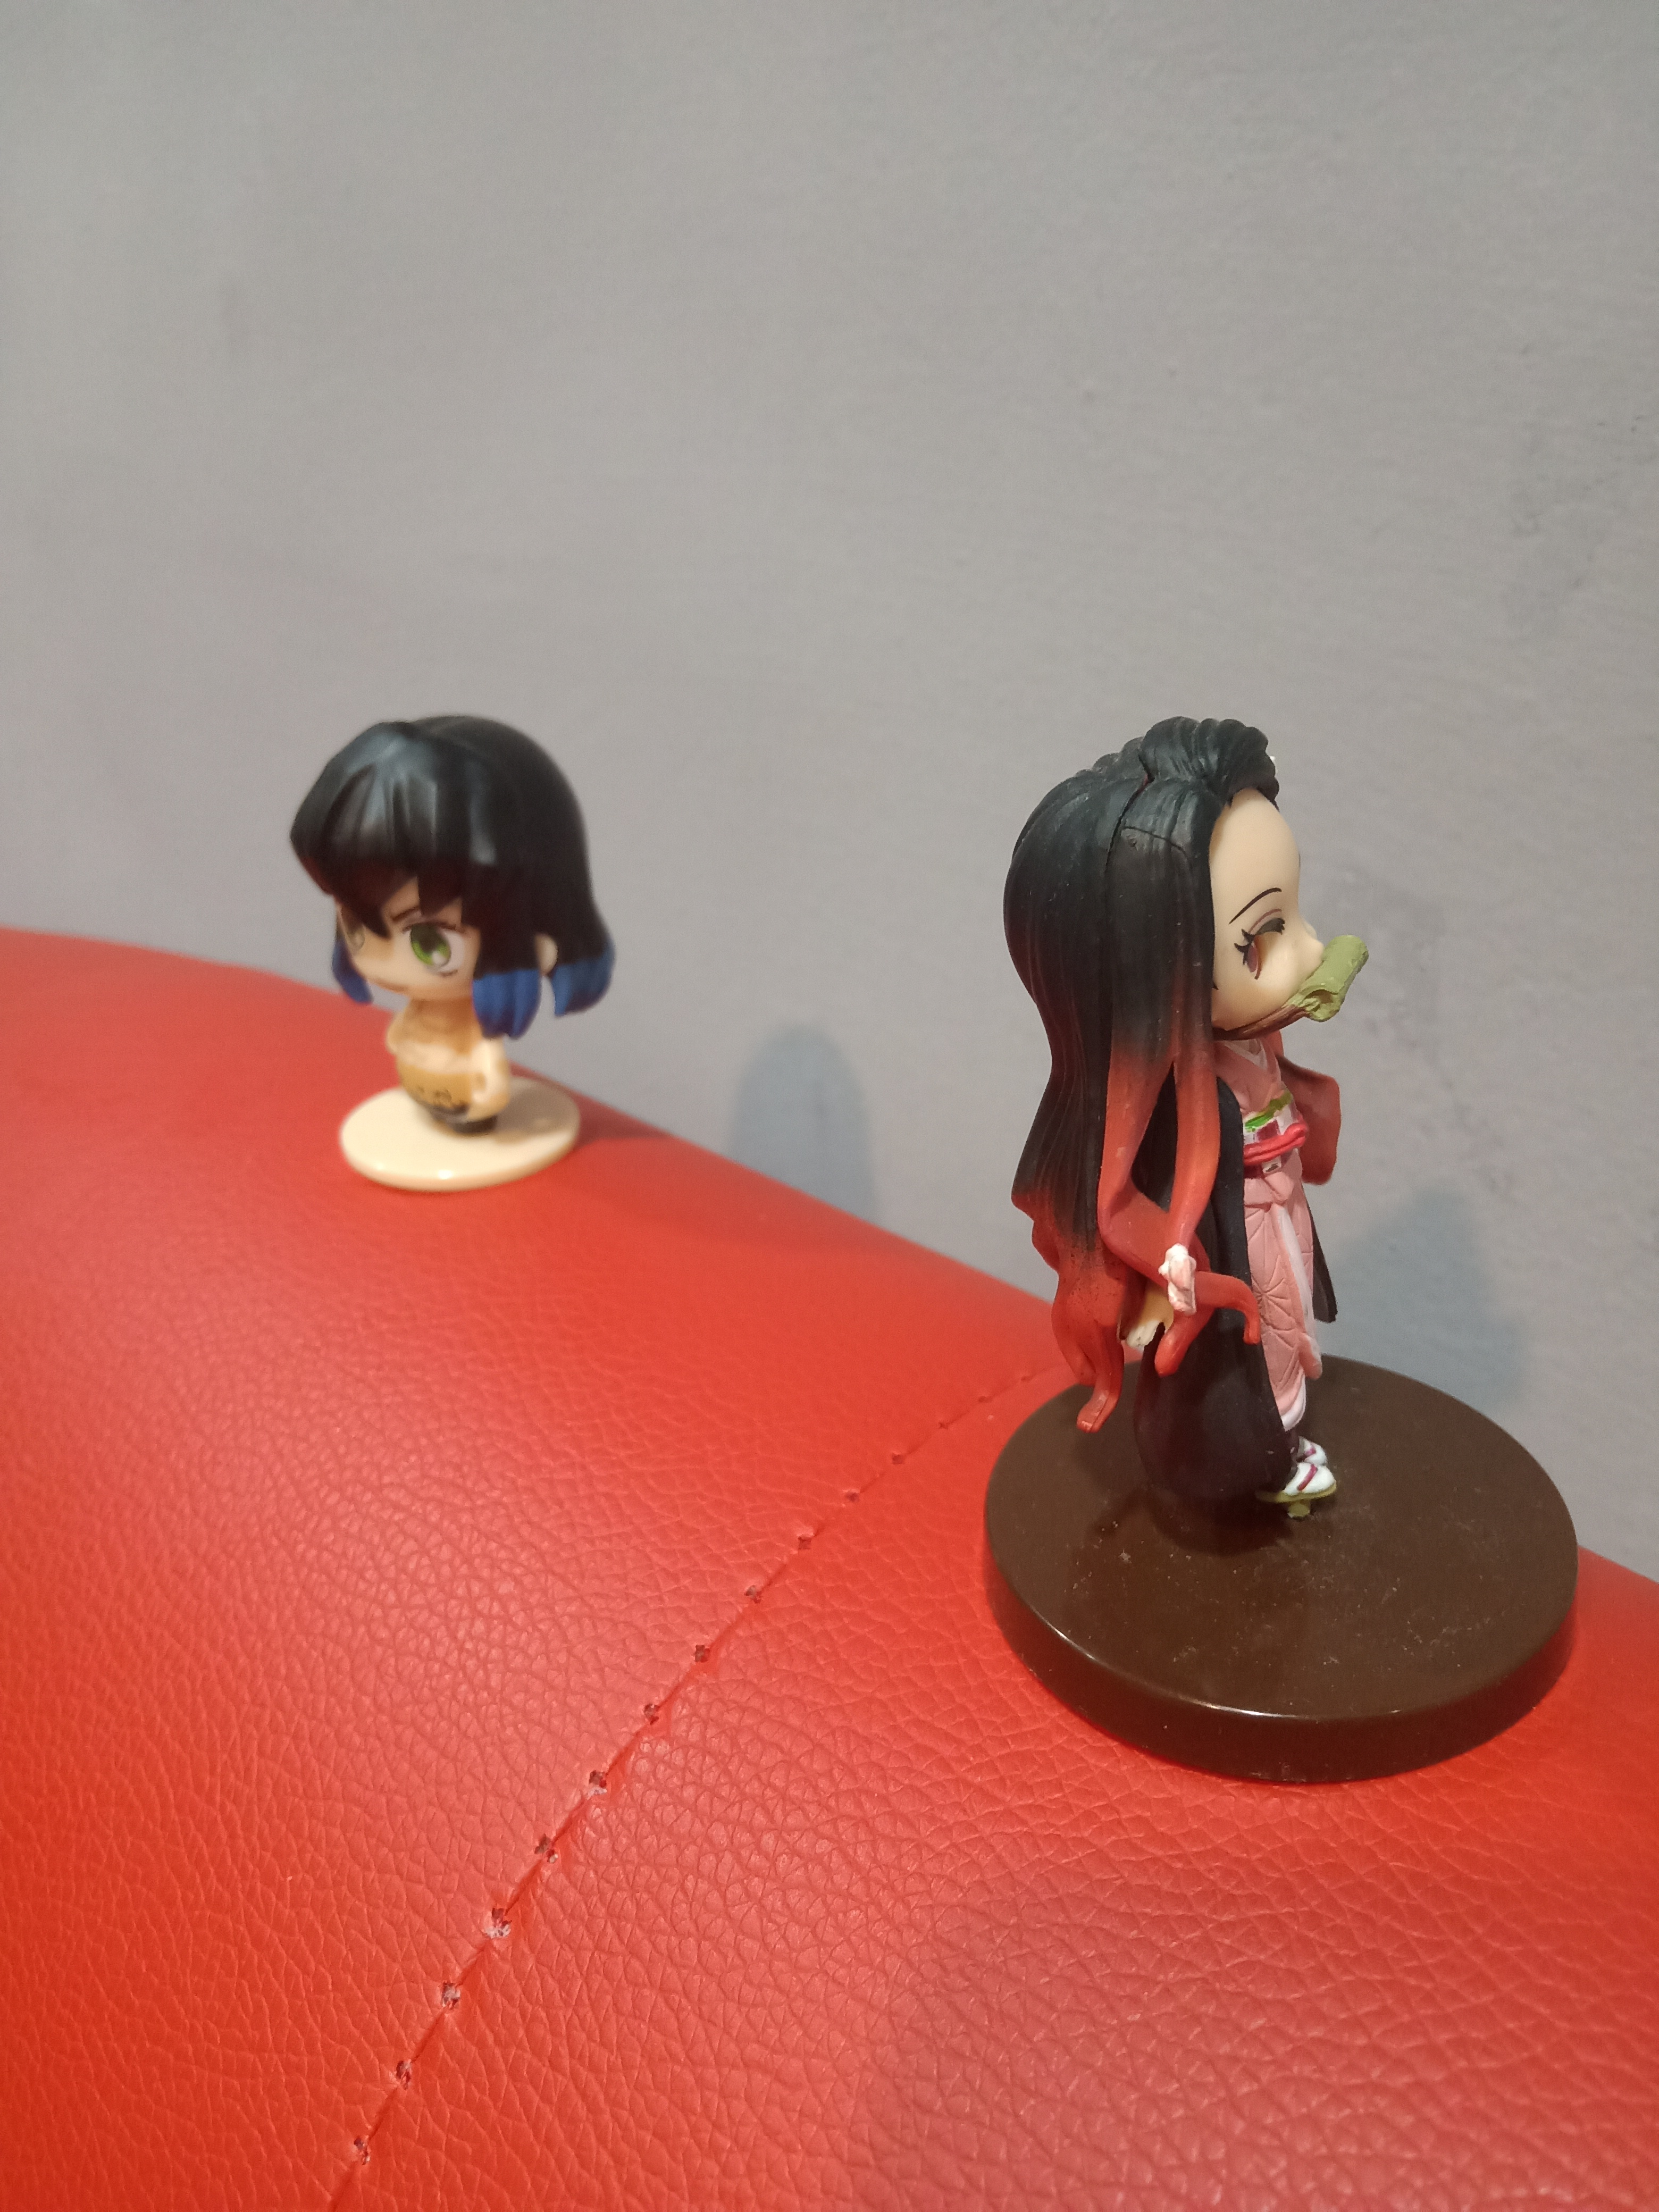Inosuke: (279, 704, 645, 1212)
Nezuko: (969, 707, 1588, 1799)
